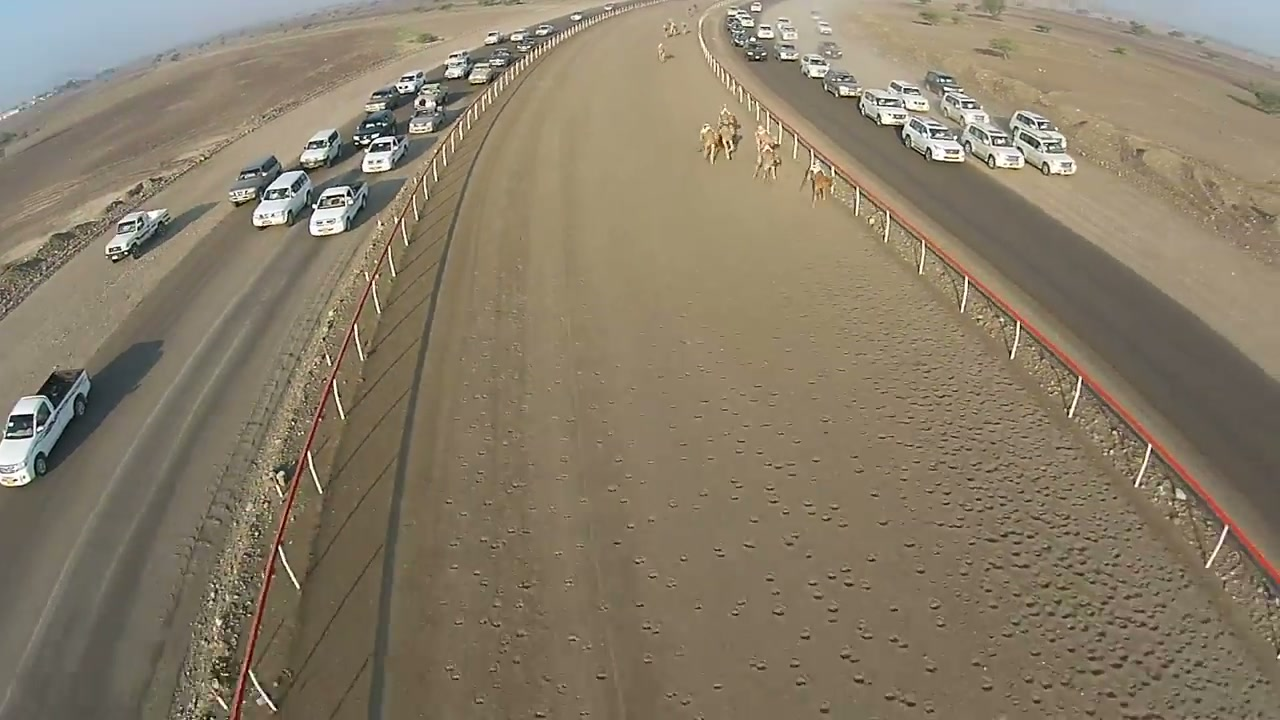animal_footprint: (455, 317, 986, 719), (837, 260, 1239, 711)
